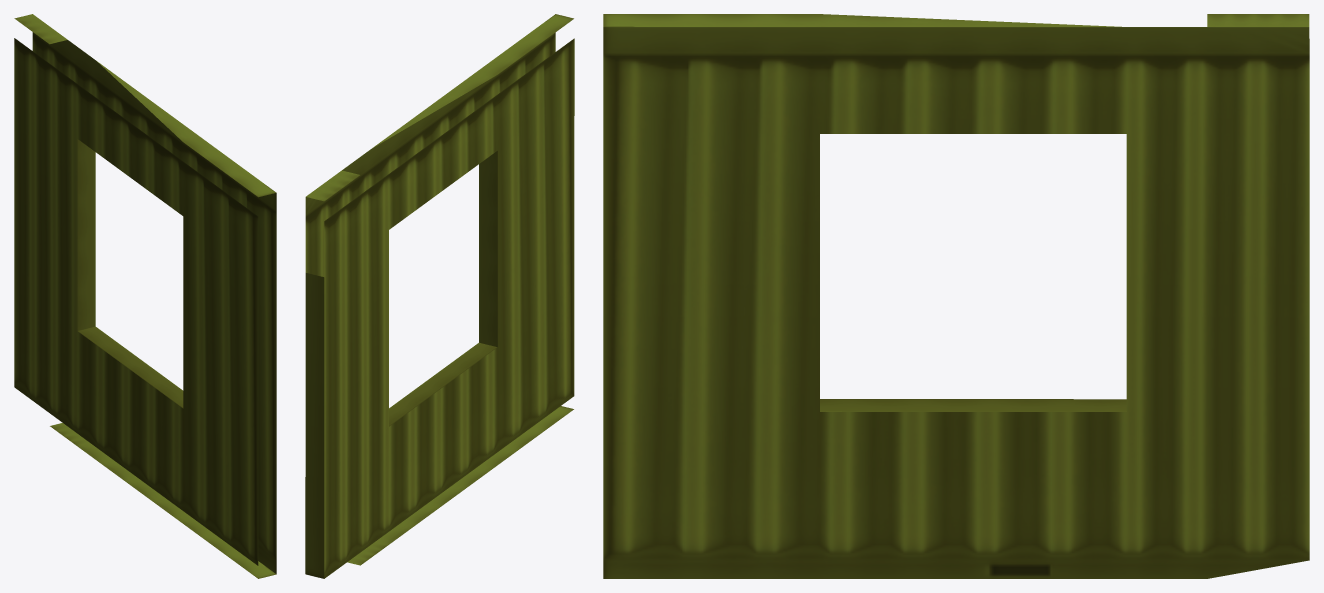
The model's file is ContainerWindow.fbx.
3 views of the same model, side by side, from view 1: azimuth 30°, elevation 25°; view 2: azimuth 150°, elevation 25°; view 3: azimuth 270°, elevation 25° (orthographic). The views are drawn at different scales.
Parts seen in each view (by area): view 1: Container_Window; view 2: Container_Window; view 3: Container_Window.
Part boxes in pixels (x1=…): Container_Window: x1=14, y1=14, x2=276, y2=578; Container_Window: x1=305, y1=14, x2=574, y2=578; Container_Window: x1=603, y1=14, x2=1309, y2=578.
Bounding box in the file's own units: 15.23 × 298 × 345.
